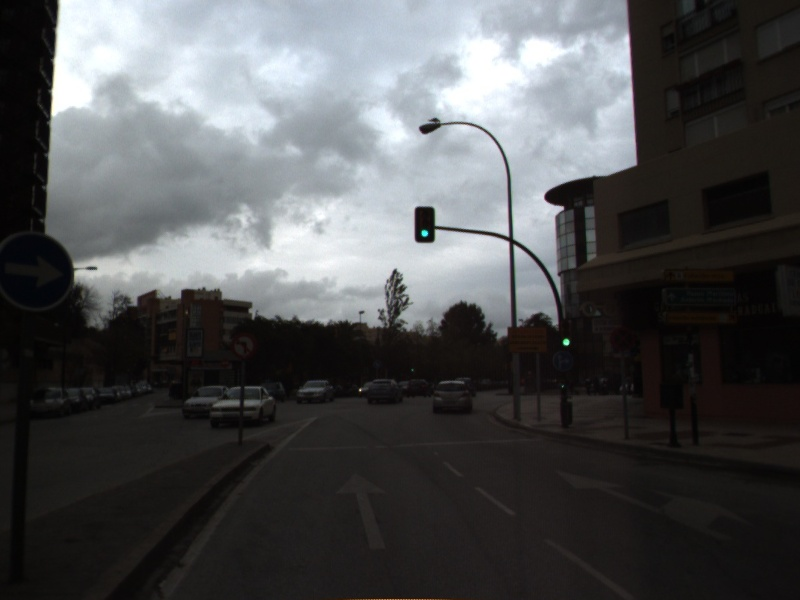STRAIGHT: (333, 469, 391, 552)
STRAIGHT_RIGHT: (550, 466, 760, 543)
